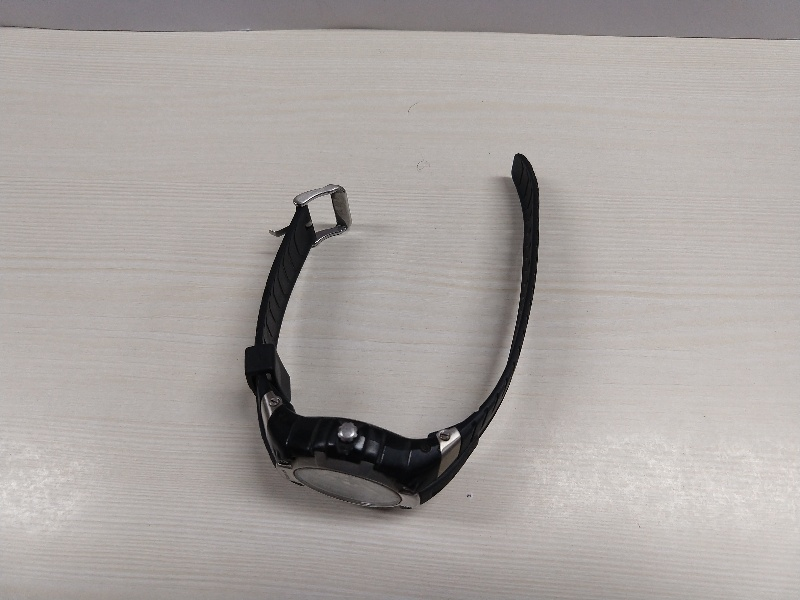watch: (231, 136, 543, 514)
